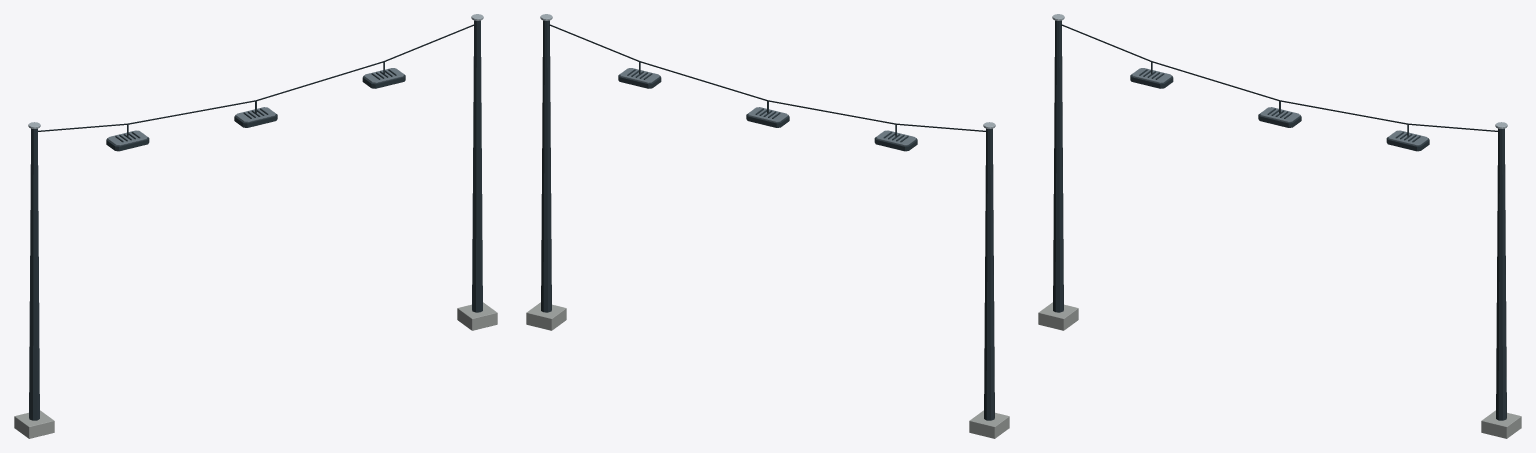
The model's file is b18_catenary_lighting_span.glb.
3 views of the same model, side by side, from view 1: azimuth 30°, elevation 25°; view 2: azimuth 150°, elevation 25°; view 3: azimuth 330°, elevation 25° (orthographic).
Visible parts, largest first — view 1: b18_catenary_lighting_span; view 2: b18_catenary_lighting_span; view 3: b18_catenary_lighting_span.
Part boxes in pixels (x1,y1,x2,y2): b18_catenary_lighting_span: (14, 14, 497, 438); b18_catenary_lighting_span: (526, 14, 1009, 438); b18_catenary_lighting_span: (1038, 14, 1521, 438).
Bounding box in the file's own units: 8.04 × 5.02 × 0.44.
